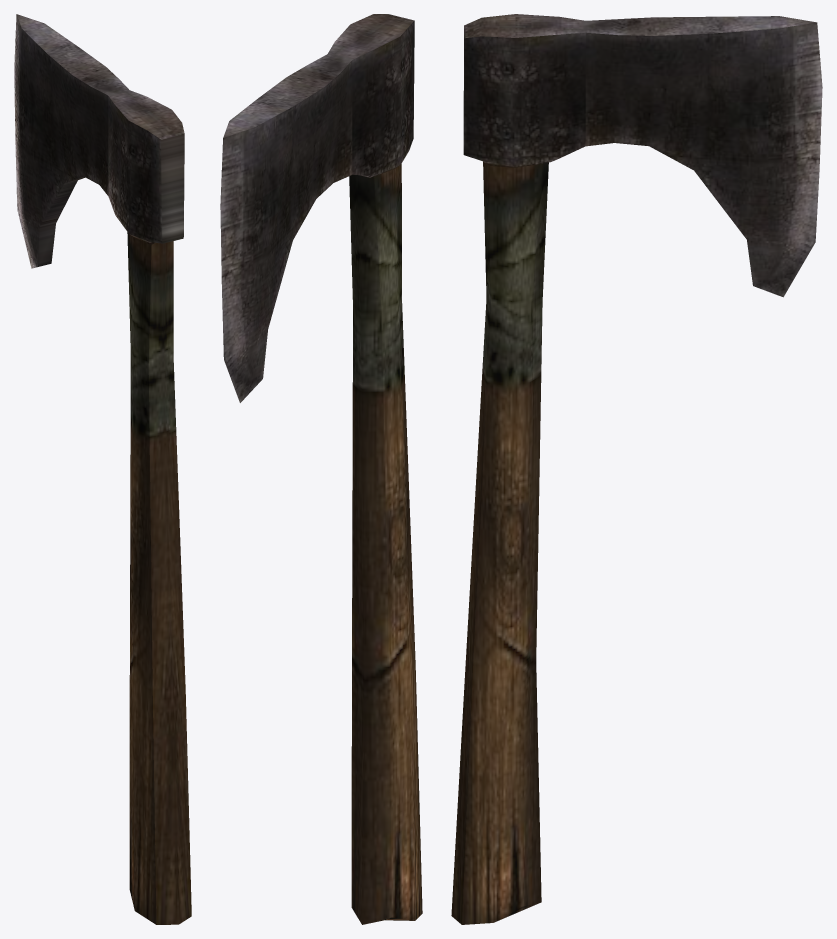
Rendered from weapons_axe02.glb.
The picture shows the model from 3 angles, left to right: view 1: azimuth 30°, elevation 25°; view 2: azimuth 150°, elevation 25°; view 3: azimuth 270°, elevation 25°; orthographic projection. The views are drawn at different scales.
Parts seen in each view (by area): view 1: axe02; view 2: axe02; view 3: axe02.
Boxes of the visible parts, box(x1,y1,x2,y2) form: axe02: box(14, 14, 191, 924); axe02: box(220, 14, 422, 924); axe02: box(451, 14, 822, 924).
Size of the model in its own units: 0.0488 by 0.7292 by 0.2744.
1 material, 1 textured.
